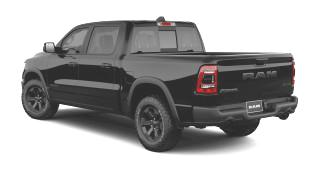ram: (241, 68, 281, 83)
